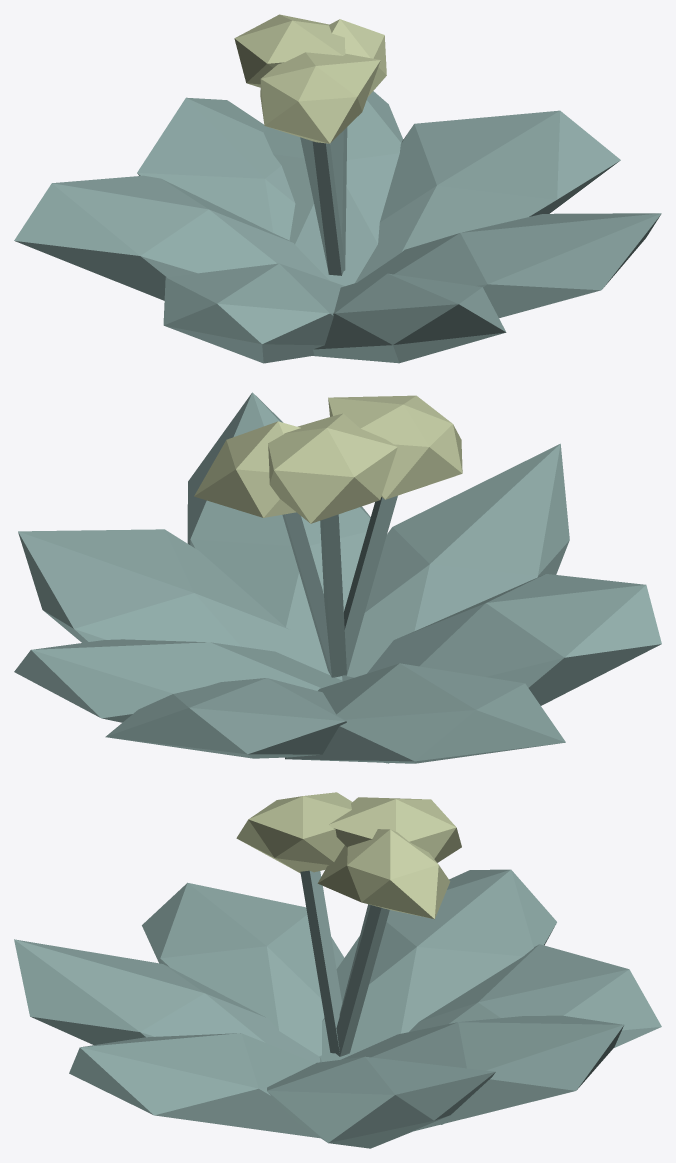
Rendered from strandkal_2.glb.
3 renders of one model, top to bottom at view 1: azimuth 30°, elevation 25°; view 2: azimuth 150°, elevation 25°; view 3: azimuth 270°, elevation 25°, orthographic. The views are drawn at different scales.
Visible parts, largest first — view 1: strandkal_2; view 2: strandkal_2; view 3: strandkal_2.
Boxes of the visible parts, left/top/right/bottom form: strandkal_2: left=14, top=14, right=661, bottom=363; strandkal_2: left=14, top=392, right=661, bottom=763; strandkal_2: left=14, top=792, right=661, bottom=1148.
Size of the model in its own units: 1.62 by 0.8854 by 1.63.
